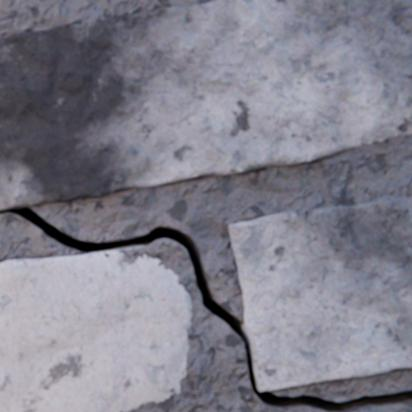brick: (0, 0, 411, 211), (228, 196, 411, 390), (0, 248, 191, 411)
crack: (0, 207, 411, 411)
